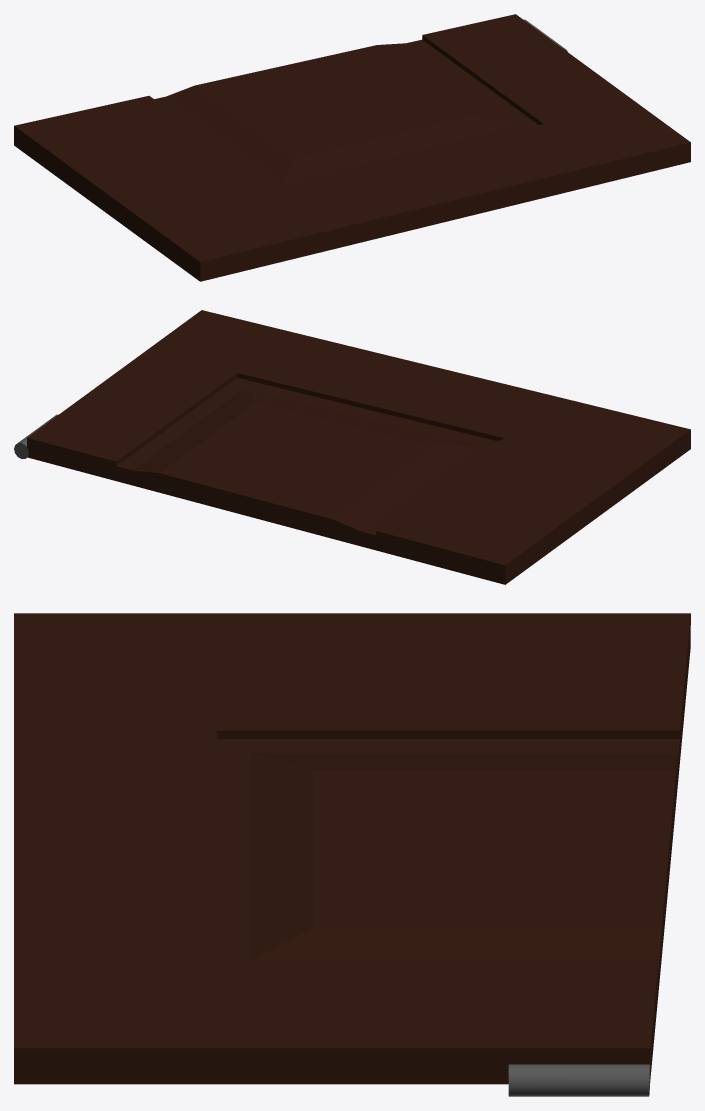
The model's file is Placard_Part_8.fbx.
The picture shows the model from 3 angles, top to bottom: view 1: azimuth 30°, elevation 25°; view 2: azimuth 150°, elevation 25°; view 3: azimuth 270°, elevation 25°; orthographic projection. The views are drawn at different scales.
Parts seen in each view (by area): view 1: Placard_Part_8; view 2: Placard_Part_8; view 3: Placard_Part_8.
Boxes of the visible parts, left/top/right/bottom form: Placard_Part_8: left=14, top=14, right=690, bottom=281; Placard_Part_8: left=14, top=310, right=690, bottom=584; Placard_Part_8: left=14, top=613, right=690, bottom=1096.
Size of the model in its own units: 73.05 by 3.17 by 46.75.
